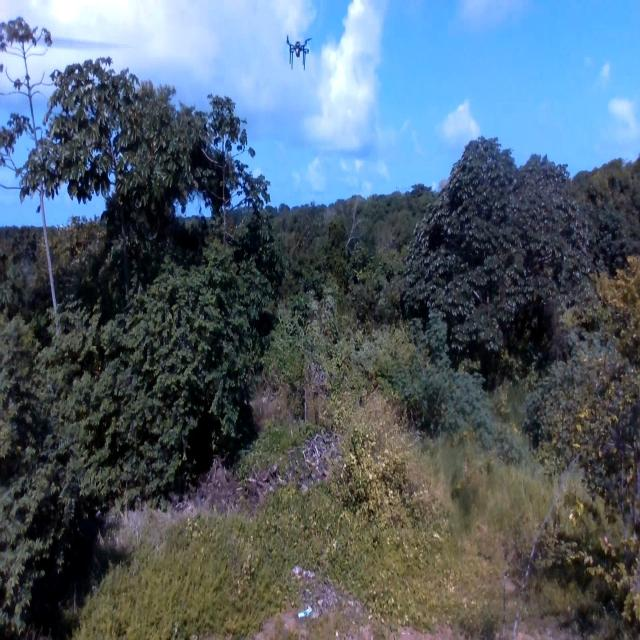-uav-: (278, 19, 326, 89)
